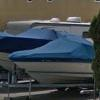Boat: (1, 19, 94, 91)
